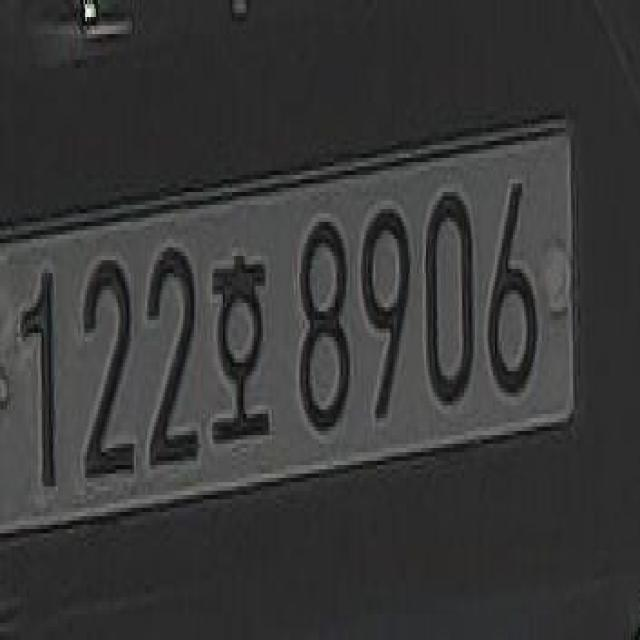illegal_plate: (0, 112, 577, 546)
